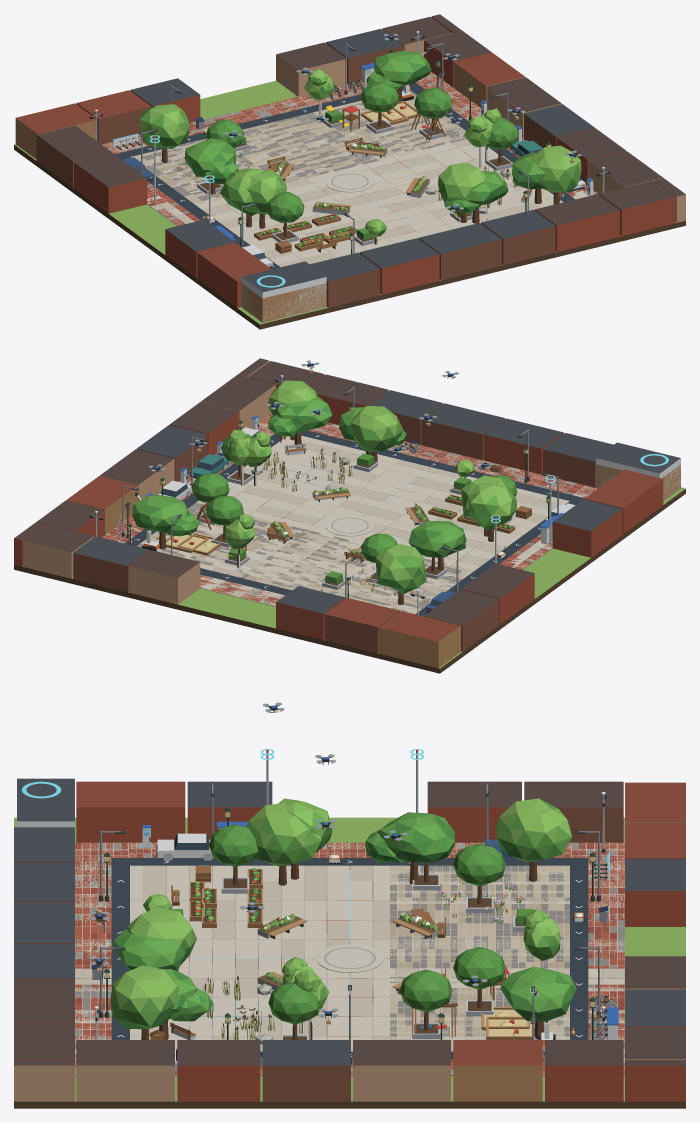
The model's file is Street_Miniatures.fbx.
3 views of the same model, one above another, from view 1: azimuth 30°, elevation 25°; view 2: azimuth 150°, elevation 25°; view 3: azimuth 270°, elevation 25° (orthographic). The views are drawn at different scales.
Parts seen in each view (by area): view 1: Miniature_Balanced, Miniature_Efficiency, Miniature_Nature; view 2: Miniature_Balanced, Miniature_Efficiency, Miniature_Nature; view 3: Miniature_Balanced, Miniature_Efficiency, Miniature_Nature.
Part boxes in pixels (x1,y1,x2,y2): Miniature_Balanced: [14, 14, 685, 329]; Miniature_Efficiency: [89, 31, 610, 321]; Miniature_Nature: [139, 49, 561, 253]; Miniature_Balanced: [14, 358, 685, 673]; Miniature_Efficiency: [89, 360, 680, 616]; Miniature_Nature: [125, 397, 549, 604]; Miniature_Balanced: [14, 781, 685, 1108]; Miniature_Efficiency: [17, 702, 624, 1075]; Miniature_Nature: [95, 798, 616, 1044].
Size of the model in its own units: 44 by 15.29 by 44.
